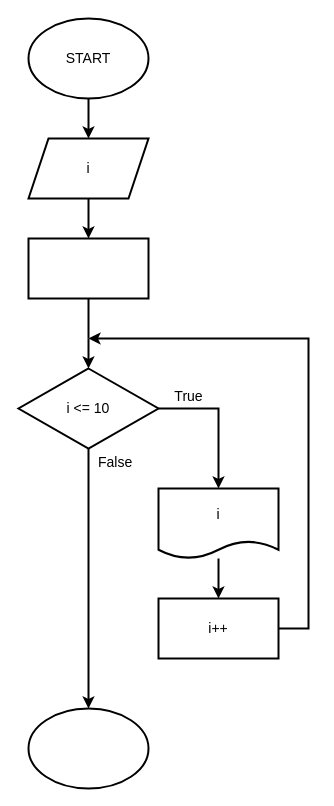
This 334x806 diagram has some shape labels left out. Each missing label, with the centre of its shape:
"i = 1" goes at (88,268).
"STOP" goes at (88,748).
